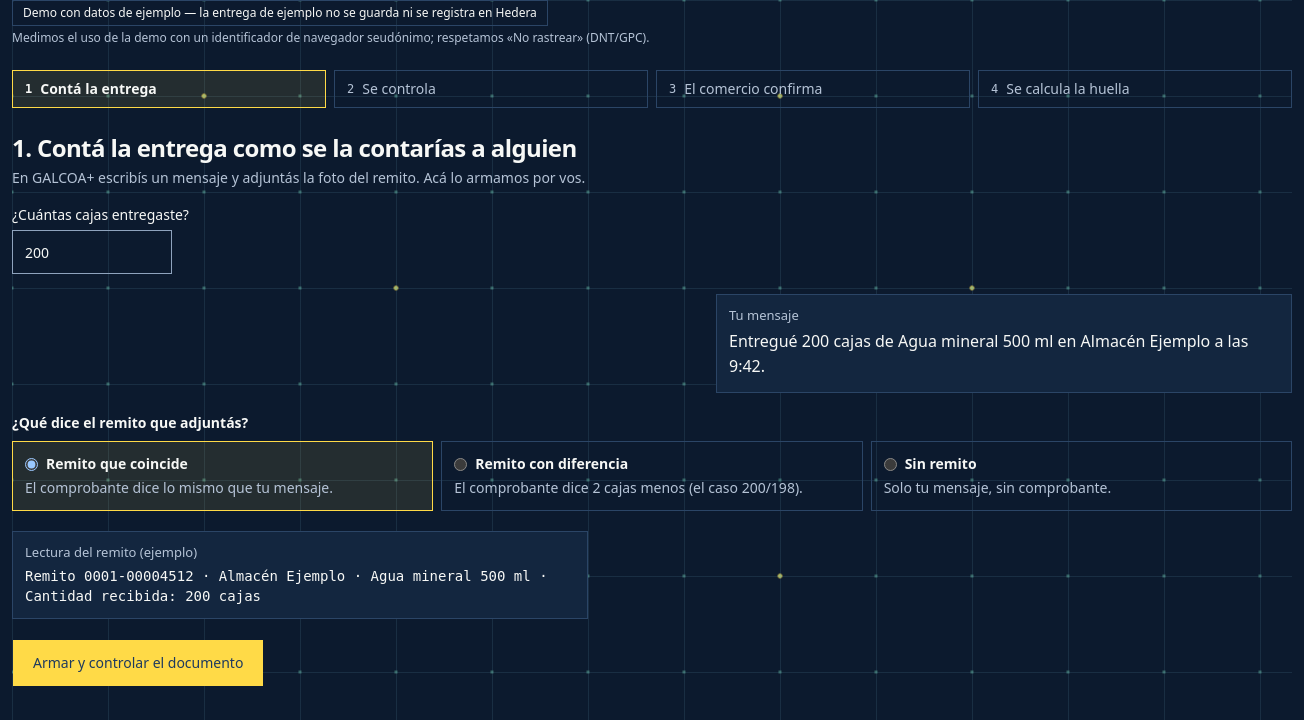
Test case: DemoContainer (demo pública, conversion-funnel.md D1) › sin remito: amarillo (declarado) y se puede seguir
Step 1. Click the radio button labelled "Sin remito Solo tu mensaje, sin comprobante." → (890, 464), box [884,458,897,471]
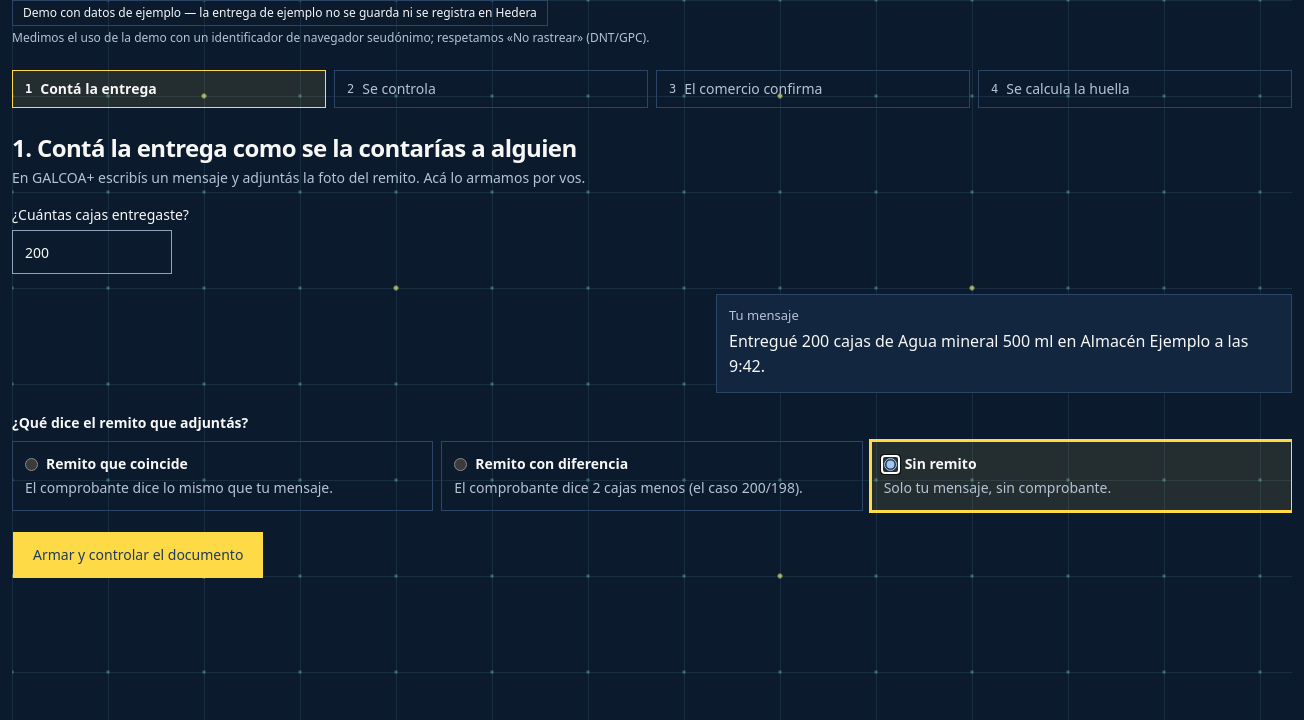
Step 2. Click the button "Armar y controlar el documento" → (138, 555), box [12,531,264,579]
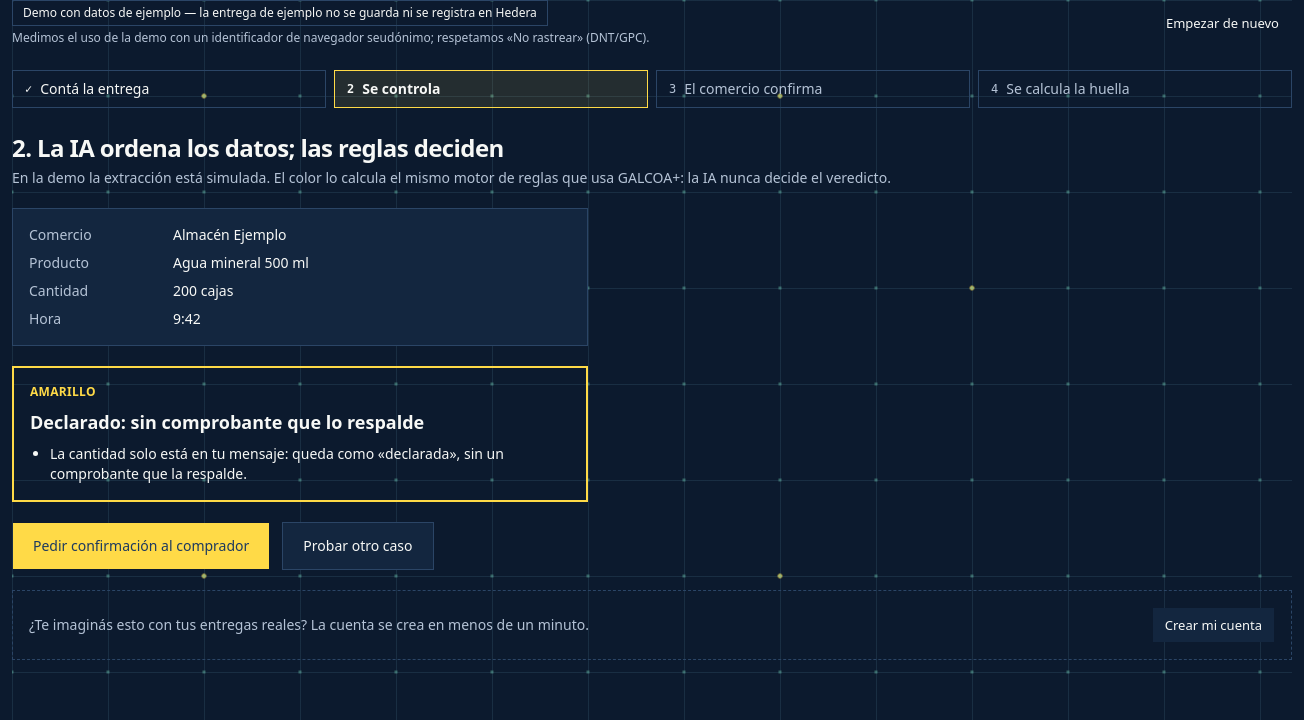
Result: the text "Declarado: sin comprobante que lo respalde" is shown at [30,410,424,434]
Result: the button "Pedir confirmación al comprador" is shown at [12,522,270,570]
